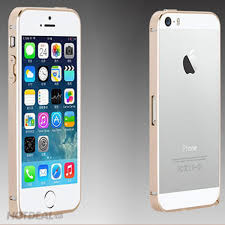iphone: (4, 2, 84, 214), (147, 5, 223, 209)
iphone4: (4, 3, 84, 215), (145, 5, 221, 209)
